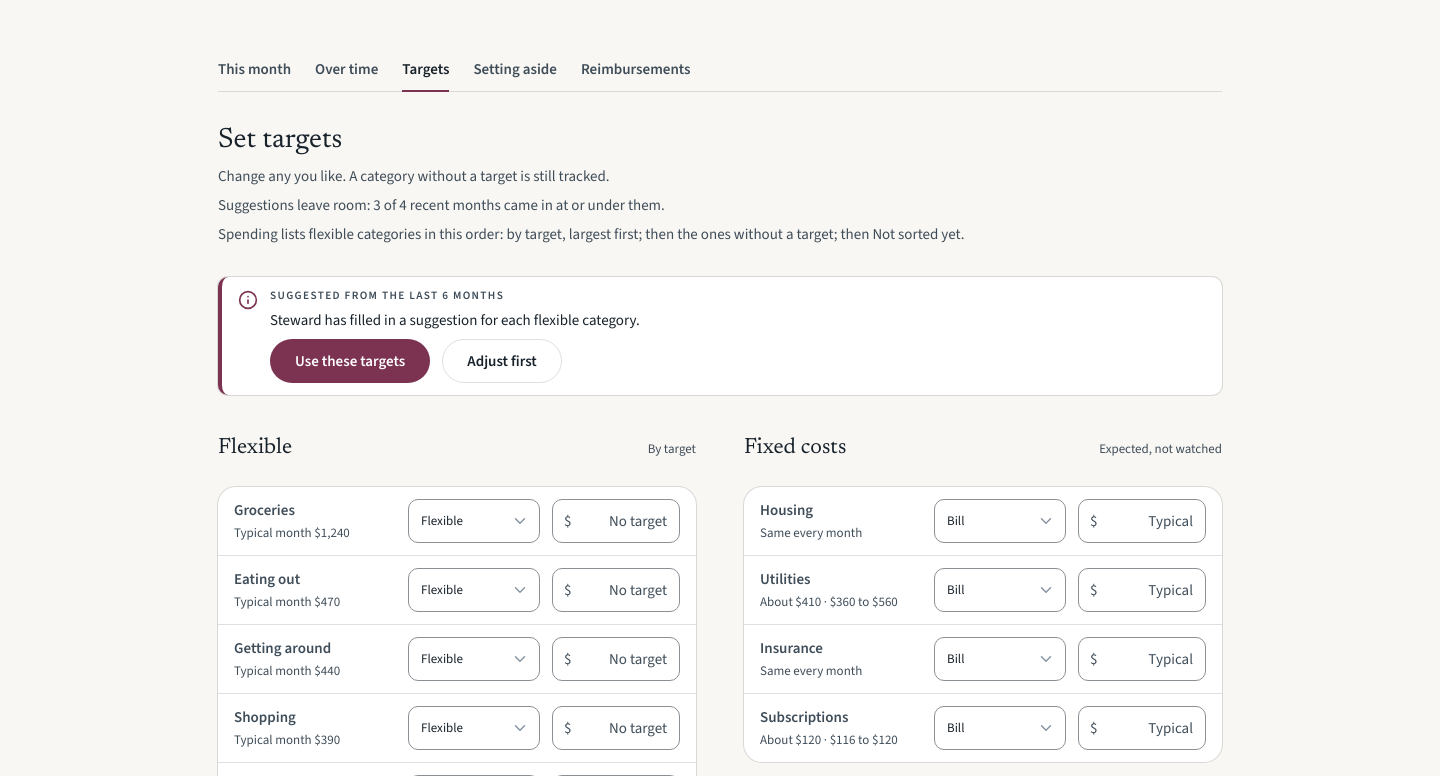
Set targets › the first time, Use these targets saves every everyday suggestion at once
Expected: the text "Suggested from the last 6 months" is shown, [270,288,504,303]
Click the button "Use these targets": click(350, 361) [270,339,430,383]
(page scrolled)
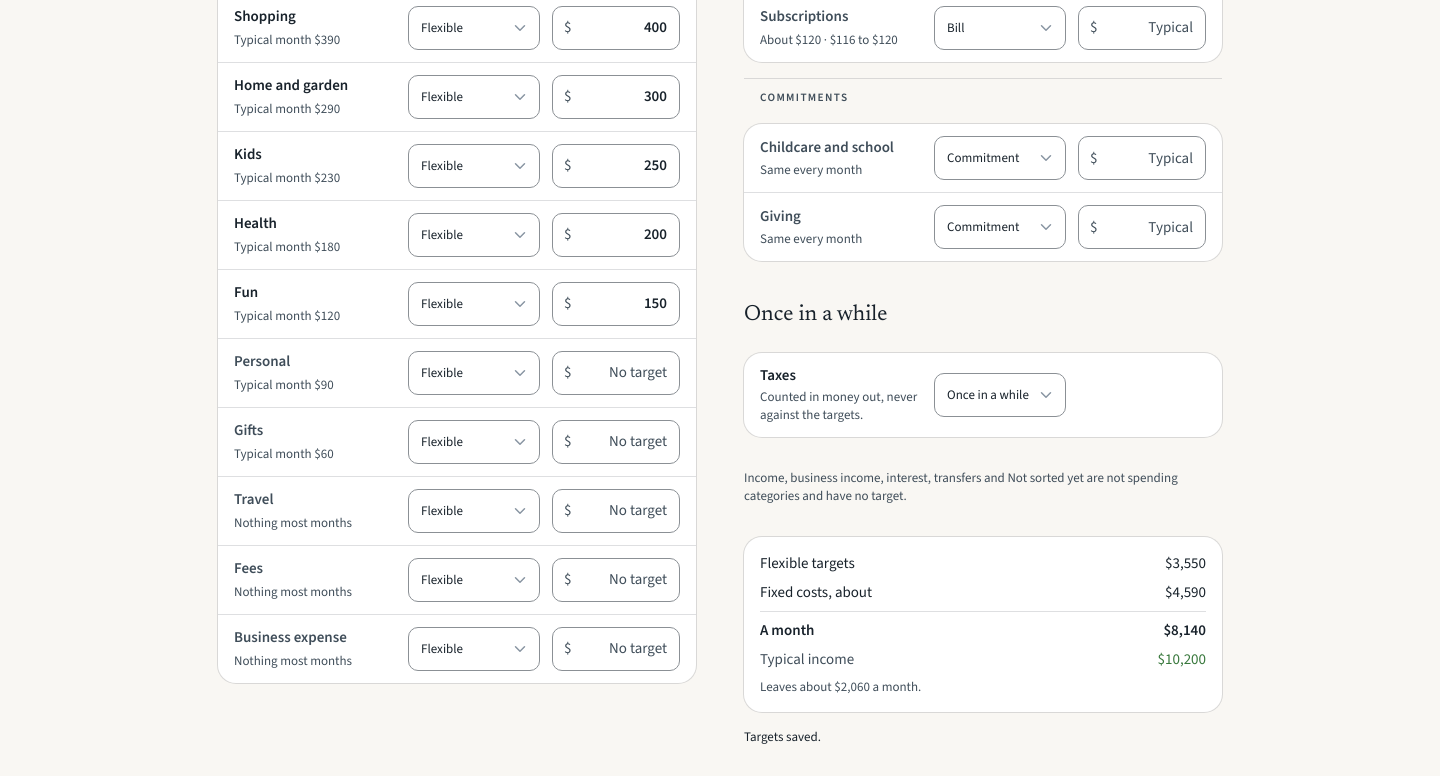
Now the text "Targets saved." is shown, box [744,728,821,745]
Now the text "Suggested from the last 6 months" is gone
